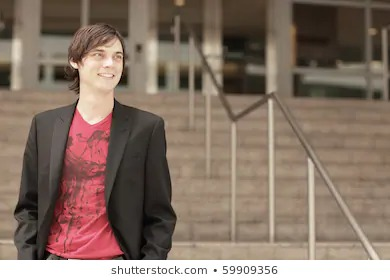F_M_suit jacket: (14, 99, 178, 259)
